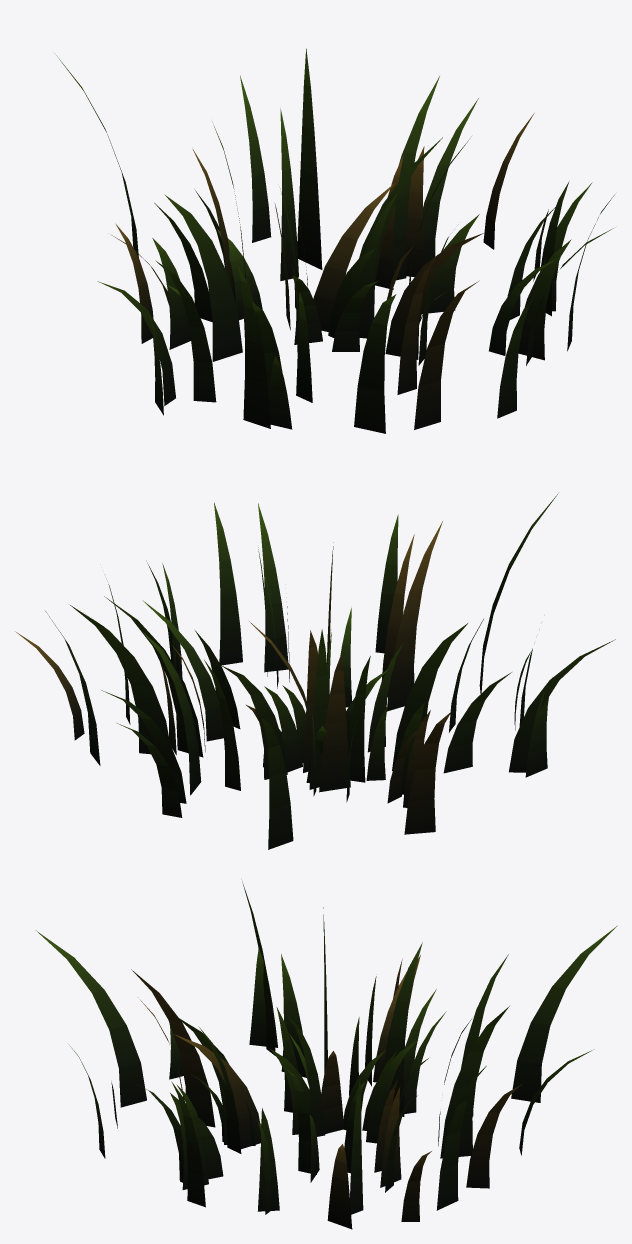
The model's file is SM_V2_Grass_Forest.fbx.
3 renders of one model, top to bottom at view 1: azimuth 30°, elevation 25°; view 2: azimuth 150°, elevation 25°; view 3: azimuth 270°, elevation 25°, orthographic. The views are drawn at different scales.
Parts seen in each view (by area): view 1: SM_V2_Grass_Forest; view 2: SM_V2_Grass_Forest; view 3: SM_V2_Grass_Forest.
Boxes of the visible parts, <box> form: SM_V2_Grass_Forest: <box>56,48,614,433</box>; SM_V2_Grass_Forest: <box>15,494,615,849</box>; SM_V2_Grass_Forest: <box>35,881,617,1229</box>.
Size of the model in its own units: 1.03 by 0.3385 by 1.1.
